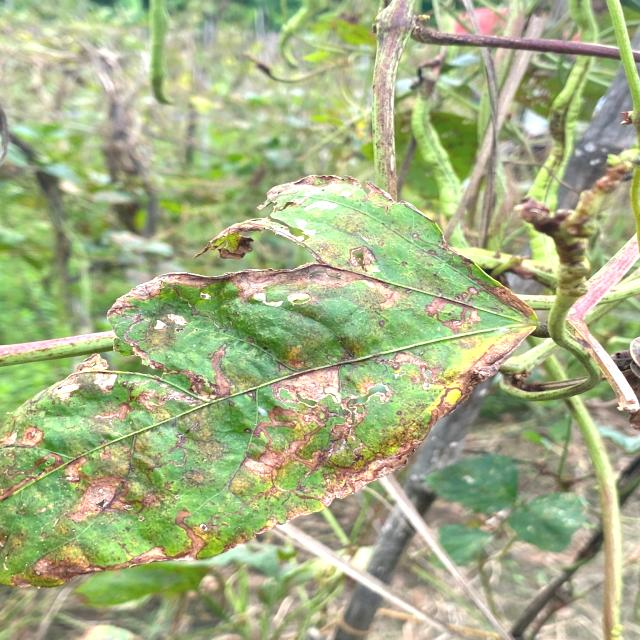leaf-moderate: (0, 176, 535, 586)
